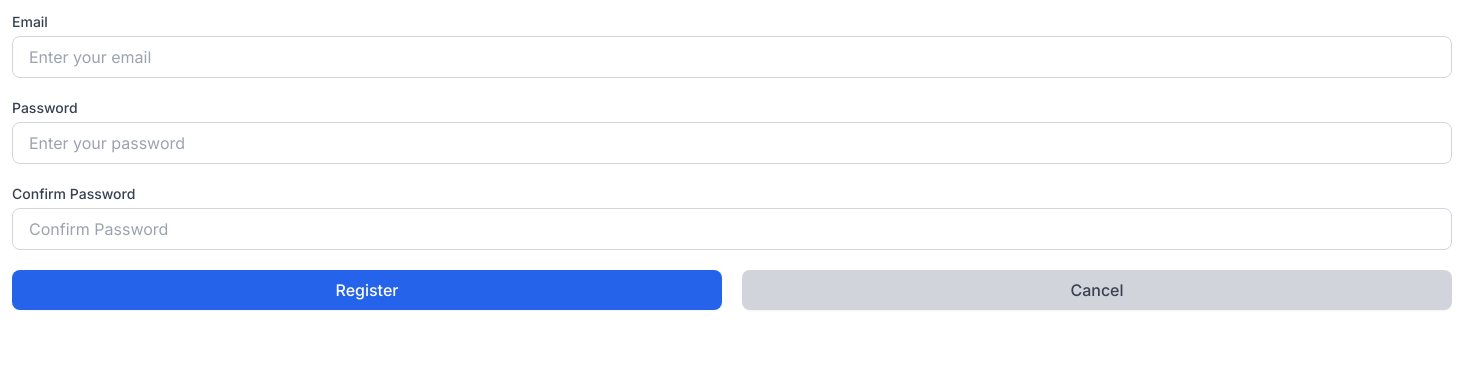
Scenario: RegisterForm › shows error if password and confirmed pasword are not match
Type "1234" into the password field with placeholder "Enter your password" at coordinates (732, 143), box [12, 122, 1452, 164]
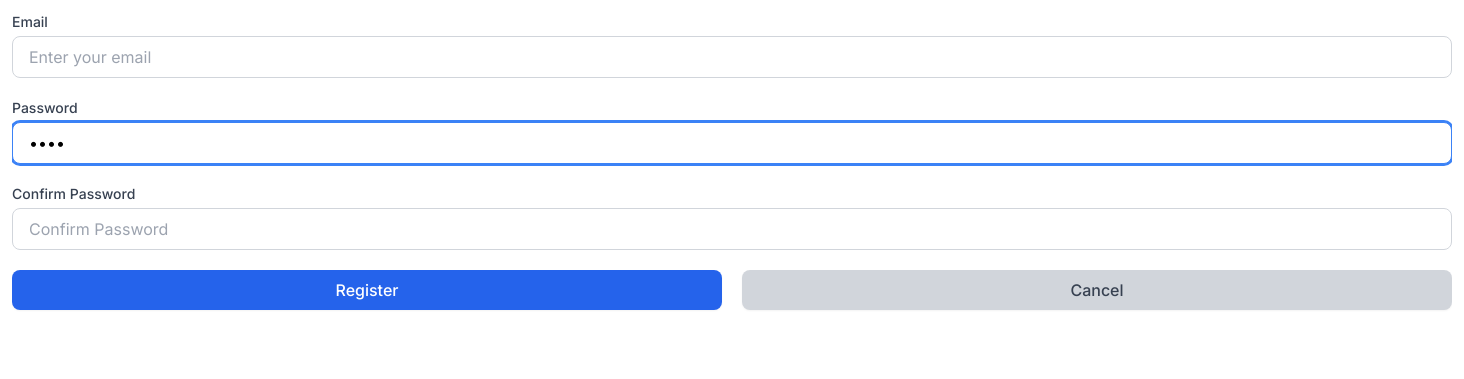
Type "12345" into the password field with placeholder "Confirm Password" at coordinates (732, 229), box [12, 208, 1452, 250]
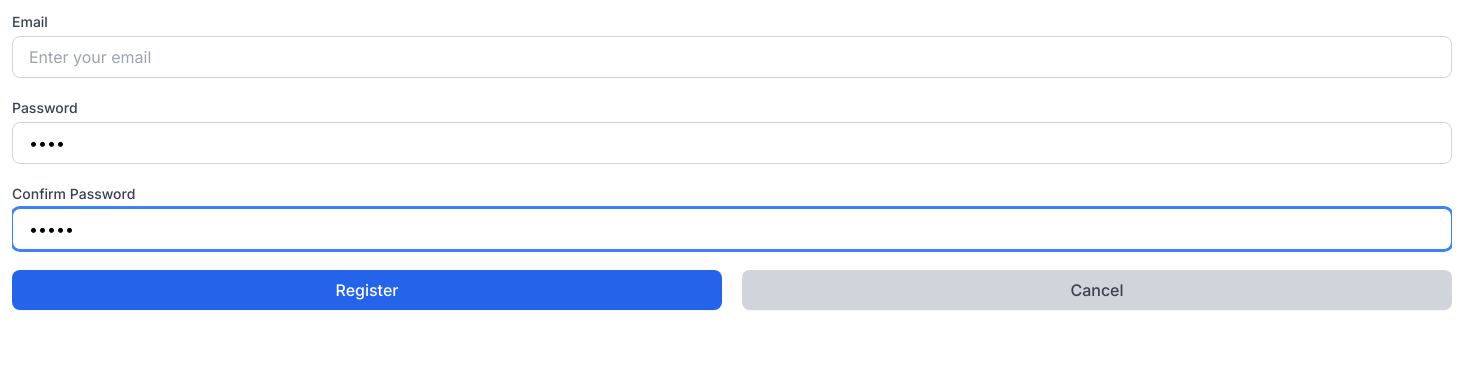
Submit the form named "register form"
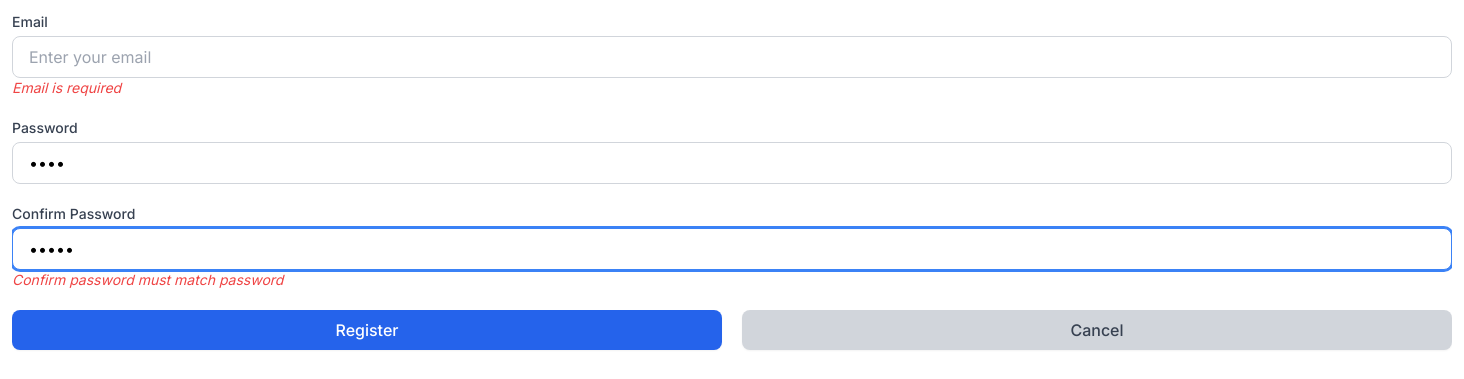
Now the text "Confirm password must match password" is shown, box [12, 271, 284, 288]
